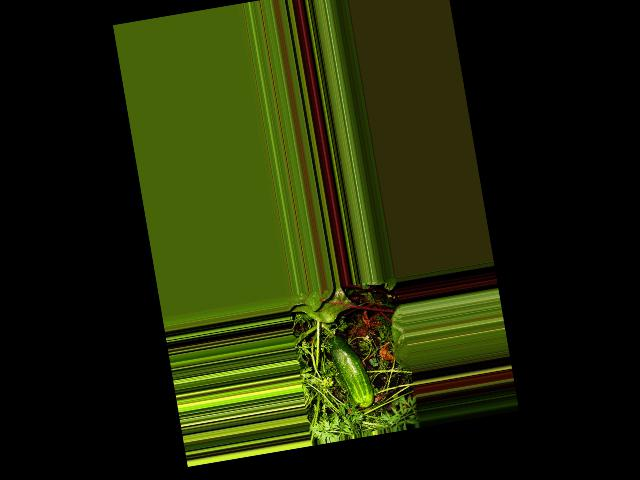cucumber: (325, 329, 375, 410)
